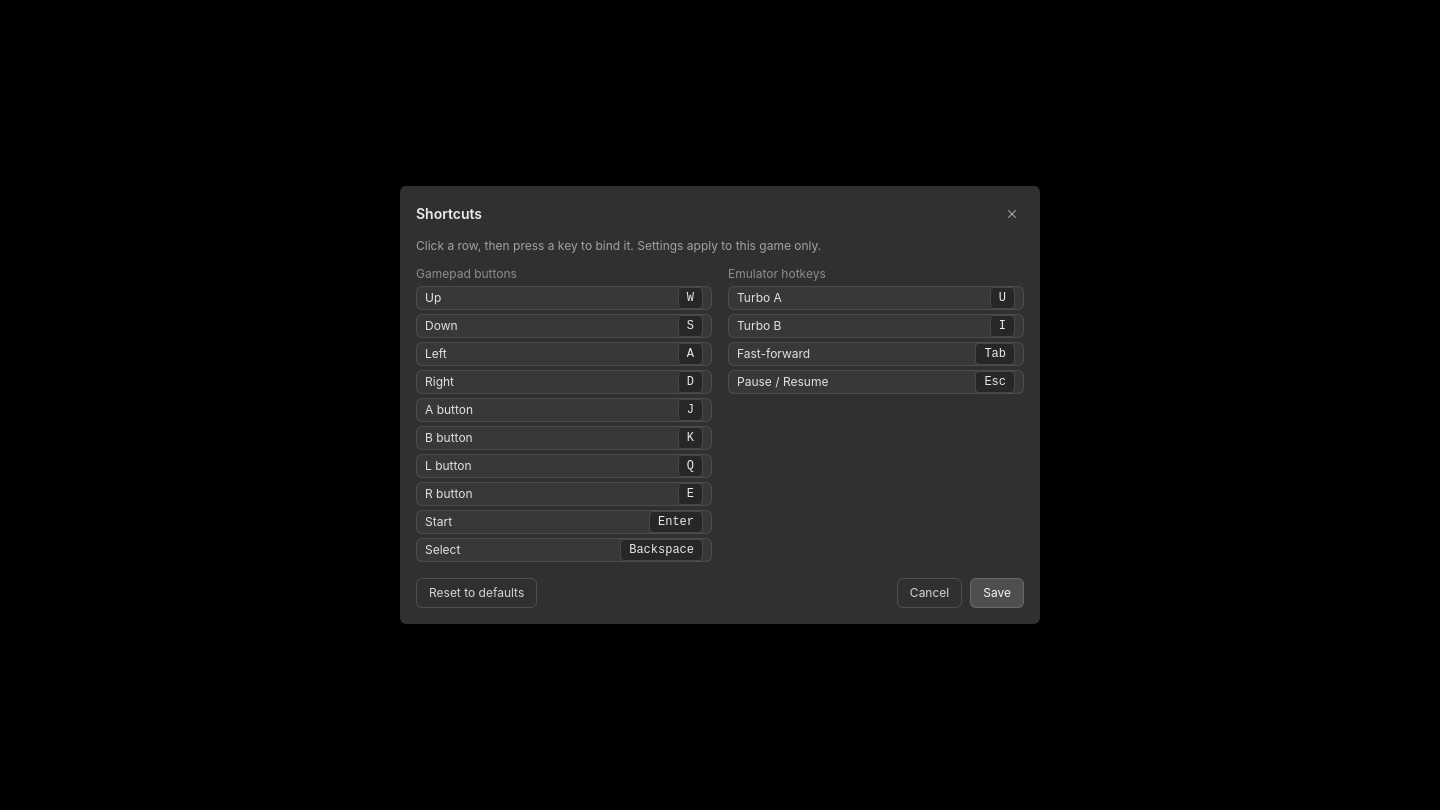
Test: GameKeymapPanel › 同一游戏内按键冲突时提示并禁止保存
Click the button "Up W" at (433, 298), box [416, 286, 712, 310]
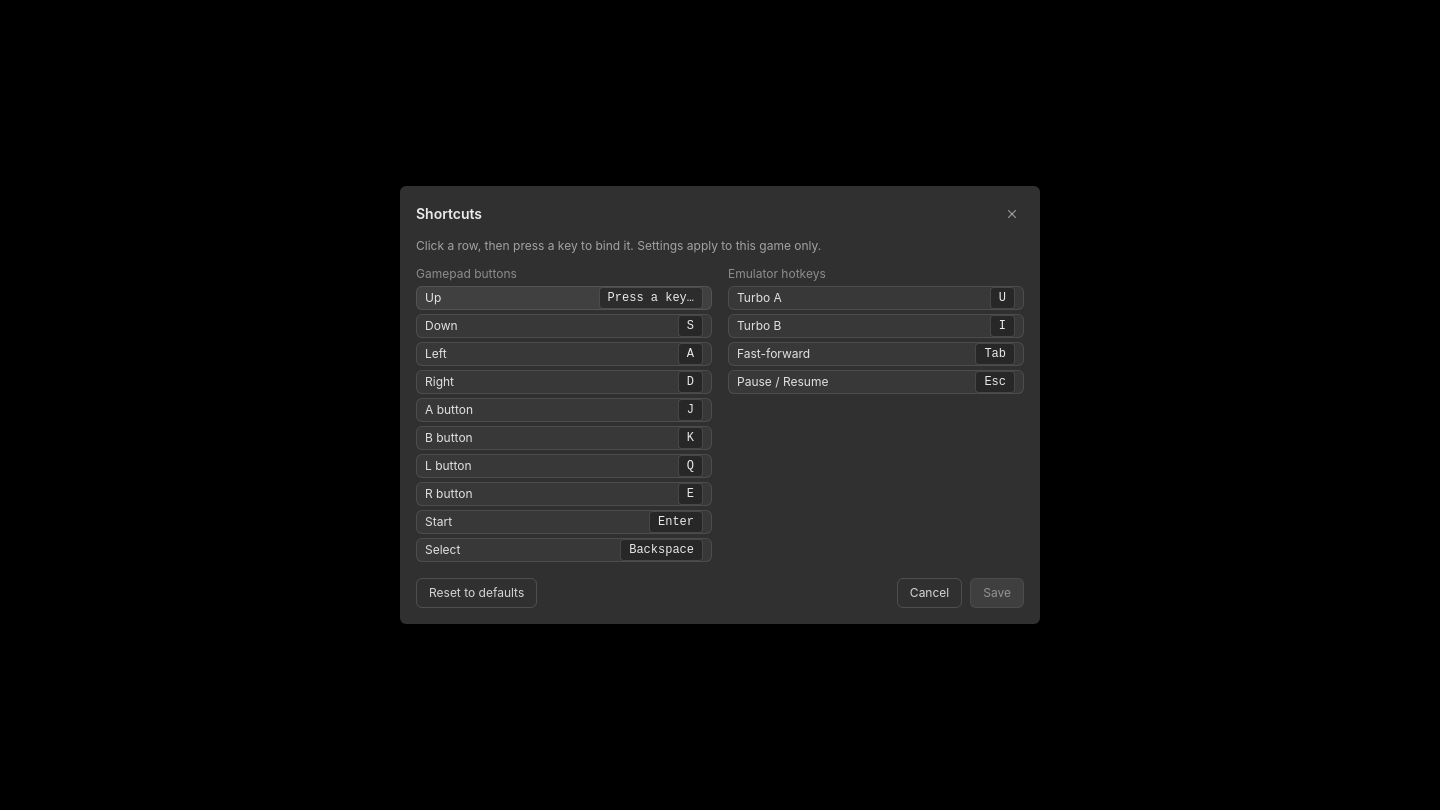
Press KeyJ
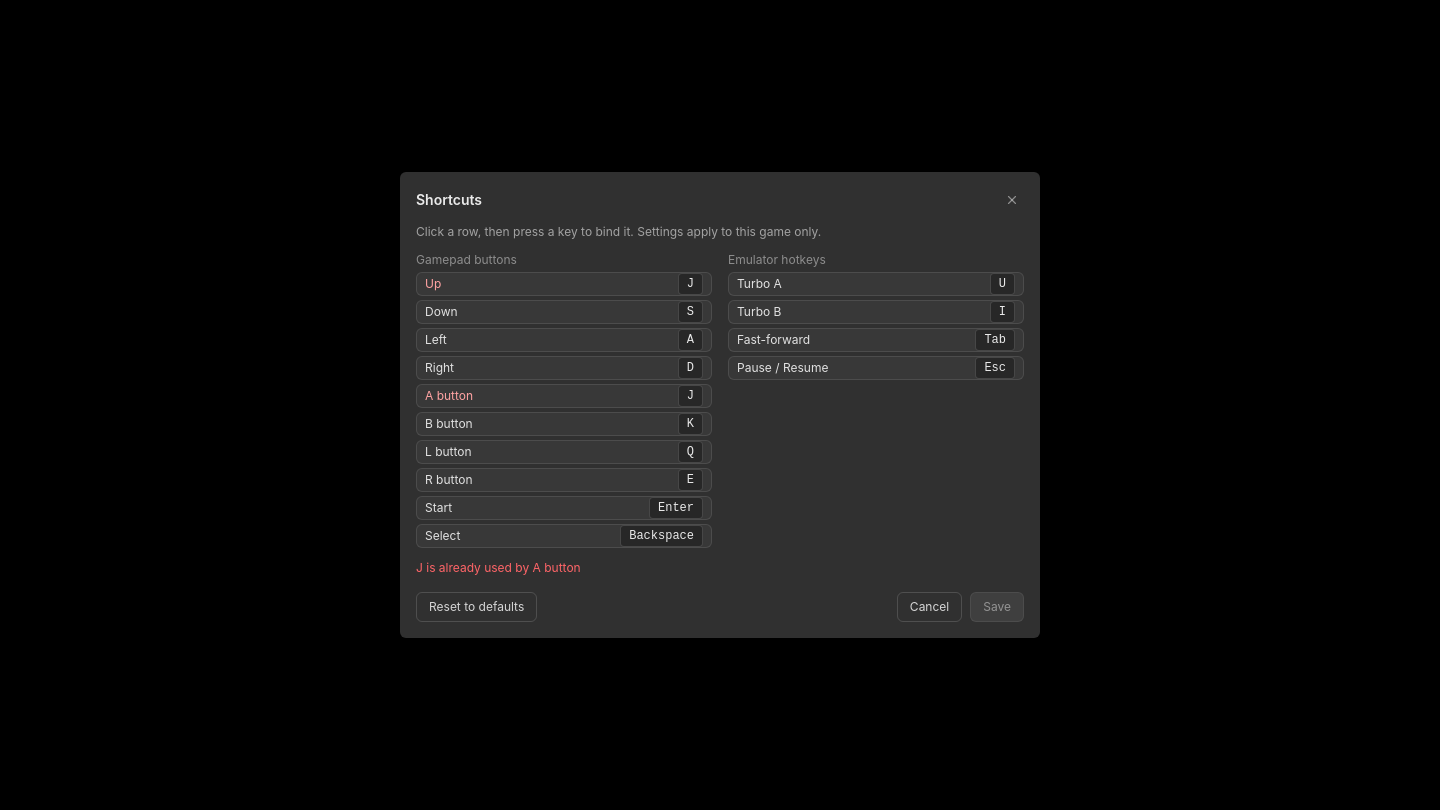
Expected: the button "Save" is disabled, [970, 592, 1024, 622]
Expected: the text "J is already used by A button" is shown, [416, 560, 581, 575]
